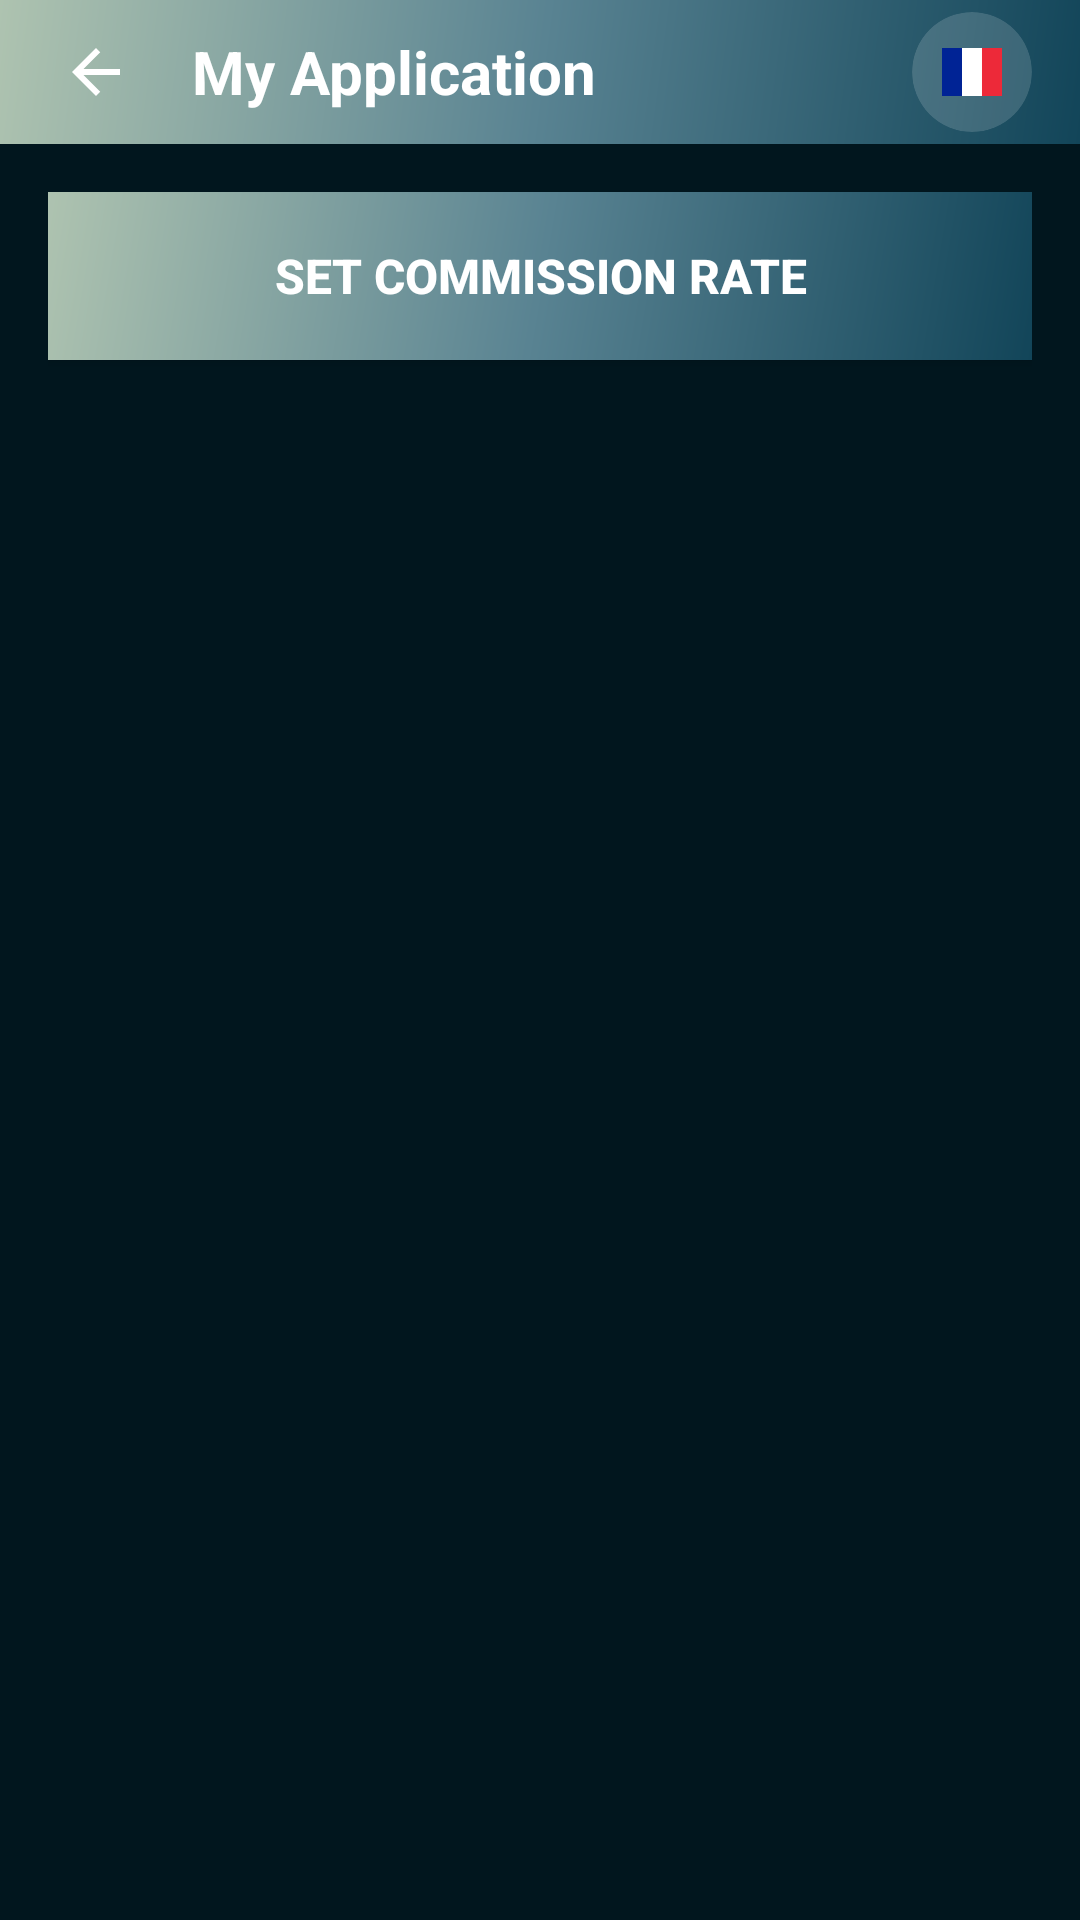

Locate icon controls on the screen. Image size 1080 x 1920, boxes as (x1, y1, x2, y2).
back: (72, 48, 120, 96)
flag fr: (942, 48, 1002, 96)
